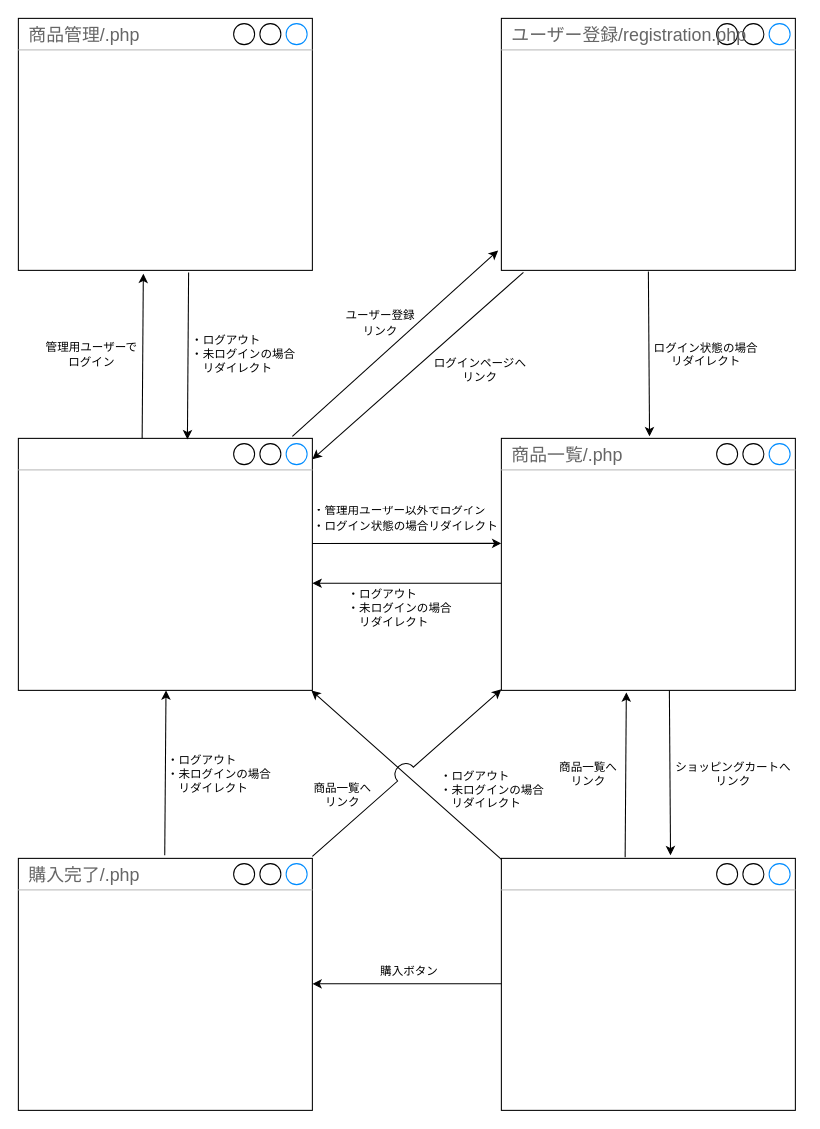
This 820x1129 diagram has some shape labels left out. The shapes that lost their labels are listed below. From the top down, each one's centre as x and y in pixels, then its label:
At (164,563): "ログイン/index.php".
At (647,983): "ショッピングカート/.php".
